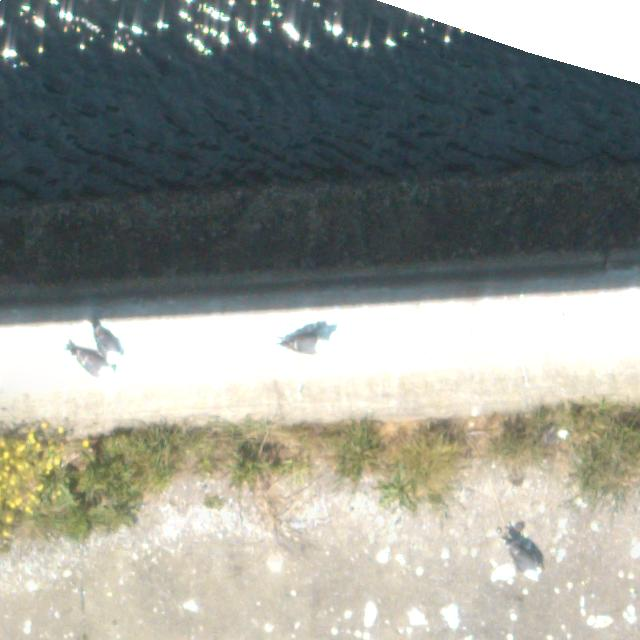umineko: (508, 537, 544, 582), (92, 324, 125, 366), (72, 345, 110, 377), (285, 334, 330, 352), (548, 428, 570, 441)
